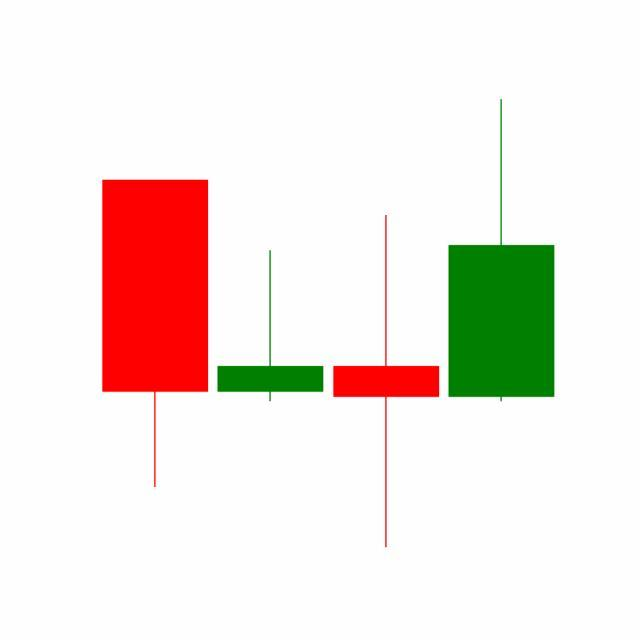Spinning Top: (329, 212, 445, 552)
